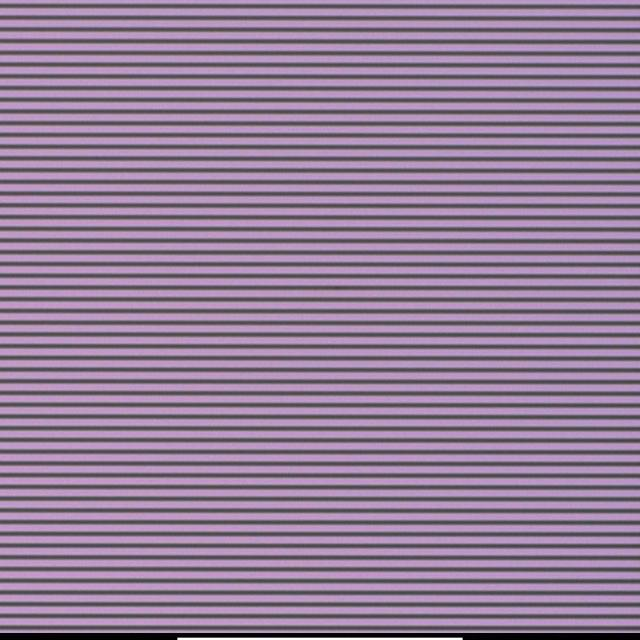nonvisual: (319, 301, 324, 305)
